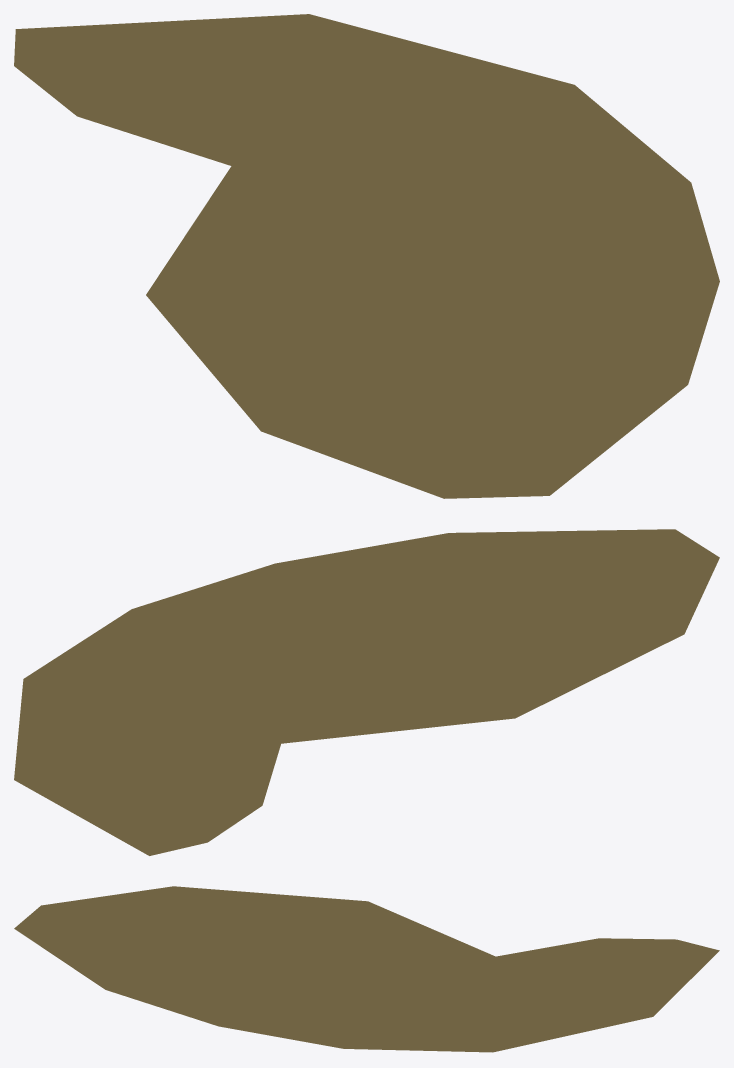
File: WingR_0.glb
3 renders of one model, top to bottom at view 1: azimuth 30°, elevation 25°; view 2: azimuth 150°, elevation 25°; view 3: azimuth 270°, elevation 25°, orthographic. The views are drawn at different scales.
Visible parts, largest first — view 1: WingR; view 2: WingR; view 3: WingR.
Boxes of the visible parts, x1,y1,x2,y2 form: WingR: [14, 14, 719, 498]; WingR: [14, 529, 719, 855]; WingR: [14, 886, 719, 1052].
Bounding box in the file's own units: 0.4142 × 0.00142 × 0.7434.
